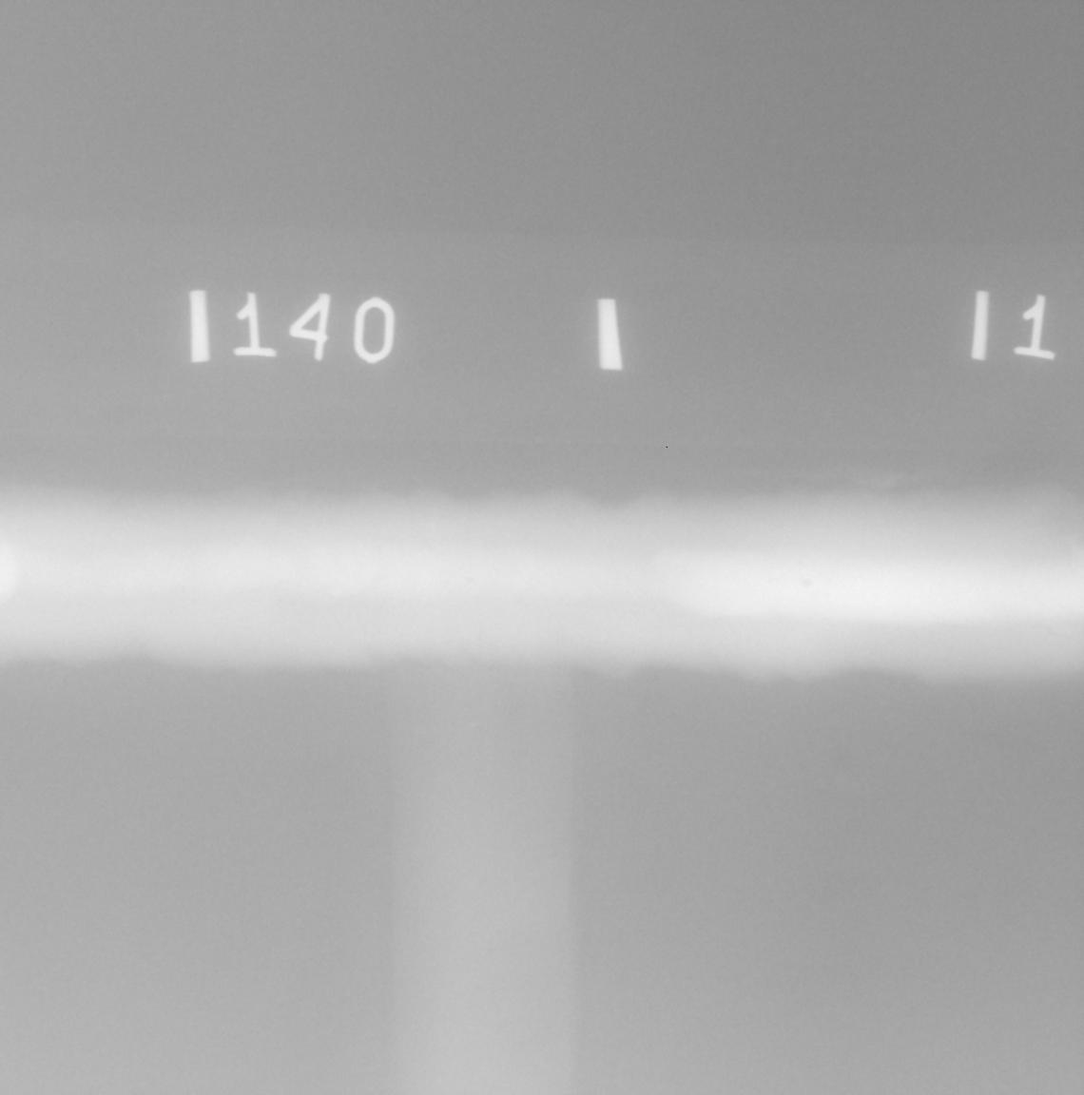Inclusion: (111, 492, 128, 513)
Pore/Porosity: (802, 580, 811, 588), (466, 576, 473, 584)
